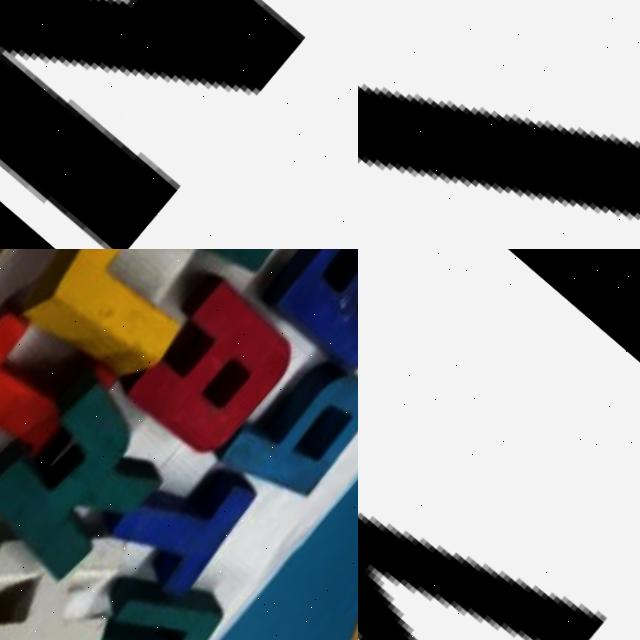7: (358, 0, 640, 249)
A: (107, 259, 315, 468)
B: (242, 249, 358, 390)
D: (114, 249, 326, 300)
H: (0, 467, 174, 640)
K: (0, 358, 187, 591)
L: (0, 249, 256, 406)
M: (35, 546, 232, 640)
P: (210, 327, 358, 509)
T: (96, 426, 266, 597)
W: (0, 0, 358, 249)
X: (358, 249, 621, 640)
